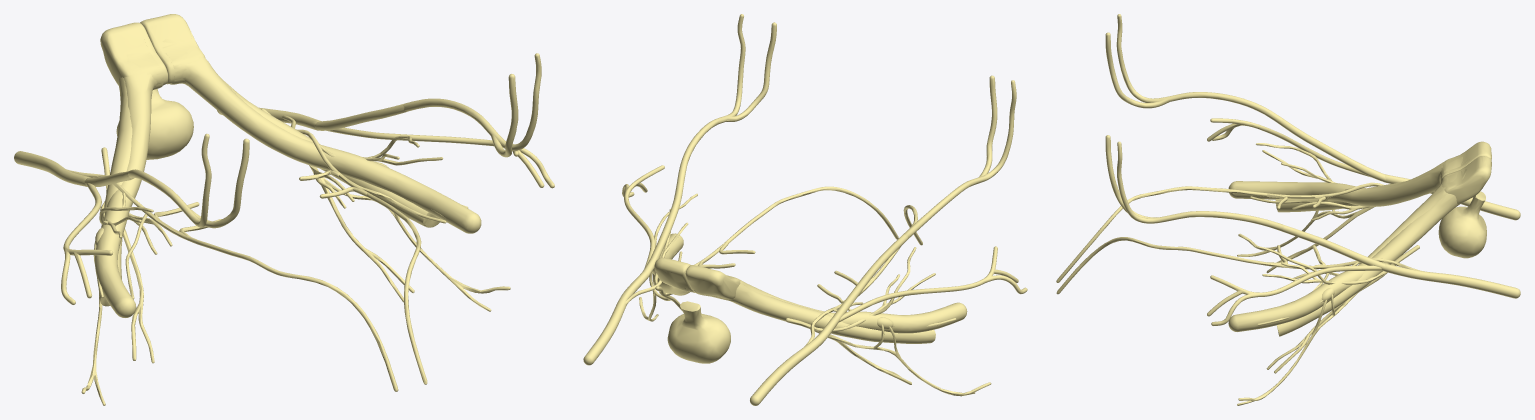
Rendered from cabeza-nervio.glb.
3 renders of one model, left to right at view 1: azimuth 30°, elevation 25°; view 2: azimuth 150°, elevation 25°; view 3: azimuth 270°, elevation 25°, orthographic. The views are drawn at different scales.
Parts seen in each view (by area): view 1: nervio_optico_izquierdo, nervio_oftalmico_izquierdo_y_sus_ramas, nervio_oftalmico_derecho_y_sus_ramas, nervio_optico_derecho, quiasma_optico, nervio_oculomotor_izquierdo, nervio_oculomotor_derecho, hipofisis; view 2: nervio_oftalmico_derecho_y_sus_ramas, nervio_oftalmico_izquierdo_y_sus_ramas, nervio_optico_derecho, hipofisis, quiasma_optico, nervio_oculomotor_derecho, nervio_oculomotor_izquierdo, nervio_optico_izquierdo; view 3: nervio_oftalmico_izquierdo_y_sus_ramas, nervio_oftalmico_derecho_y_sus_ramas, nervio_optico_izquierdo, nervio_optico_derecho, hipofisis, nervio_oculomotor_izquierdo, quiasma_optico, nervio_oculomotor_derecho.
Boxes of the visible parts, bbox=[...] form: nervio_optico_izquierdo: bbox=[162, 38, 481, 233]; nervio_oftalmico_izquierdo_y_sus_ramas: bbox=[217, 53, 554, 384]; nervio_oftalmico_derecho_y_sus_ramas: bbox=[14, 133, 398, 391]; nervio_optico_derecho: bbox=[95, 39, 163, 317]; quiasma_optico: bbox=[100, 14, 205, 85]; nervio_oculomotor_izquierdo: bbox=[261, 109, 510, 311]; nervio_oculomotor_derecho: bbox=[81, 147, 172, 405]; hipofisis: bbox=[116, 89, 193, 159]; nervio_oftalmico_derecho_y_sus_ramas: bbox=[750, 75, 1027, 405]; nervio_oftalmico_izquierdo_y_sus_ramas: bbox=[583, 14, 898, 365]; nervio_optico_derecho: bbox=[694, 279, 967, 343]; hipofisis: bbox=[667, 301, 730, 363]; quiasma_optico: bbox=[654, 257, 740, 299]; nervio_oculomotor_derecho: bbox=[785, 247, 991, 396]; nervio_oculomotor_izquierdo: bbox=[639, 193, 711, 321]; nervio_optico_izquierdo: bbox=[652, 233, 694, 295]; nervio_oftalmico_izquierdo_y_sus_ramas: bbox=[1056, 135, 1520, 325]; nervio_oftalmico_derecho_y_sus_ramas: bbox=[1056, 14, 1520, 282]; nervio_optico_izquierdo: bbox=[1228, 169, 1467, 336]; nervio_optico_derecho: bbox=[1228, 156, 1469, 212]; hipofisis: bbox=[1438, 191, 1486, 258]; nervio_oculomotor_izquierdo: bbox=[1237, 245, 1419, 405]; quiasma_optico: bbox=[1440, 141, 1491, 203]; nervio_oculomotor_derecho: bbox=[1237, 143, 1374, 273].
Size of the model in its own units: 0.087 by 0.0548 by 0.091.
